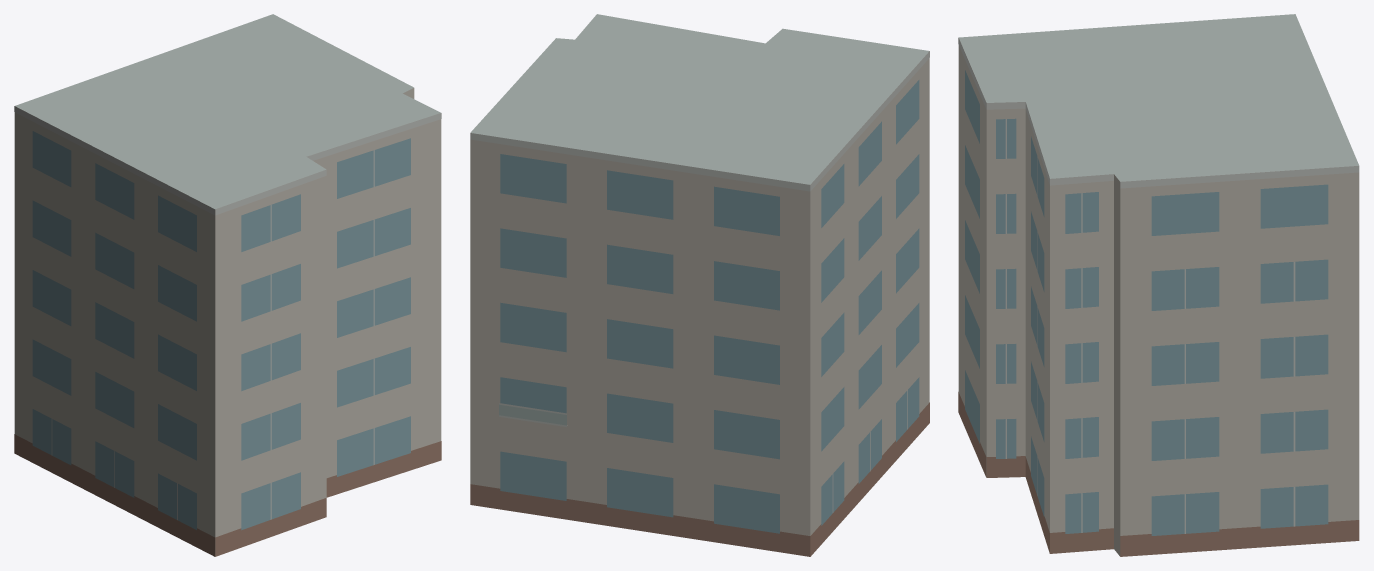
The model's file is survey-upis-32843669.glb.
3 views of the same model, side by side, from view 1: azimuth 30°, elevation 25°; view 2: azimuth 150°, elevation 25°; view 3: azimuth 270°, elevation 25° (orthographic). The views are drawn at different scales.
Visible parts, largest first — view 1: survey-upis-32843669.tmp; view 2: survey-upis-32843669.tmp; view 3: survey-upis-32843669.tmp.
Part boxes in pixels (box(x1,y1,x2,y2)): survey-upis-32843669.tmp: box(14, 14, 441, 556); survey-upis-32843669.tmp: box(470, 14, 929, 556); survey-upis-32843669.tmp: box(958, 14, 1359, 556).
Size of the model in its own units: 13.16 by 13.7 by 13.28.
